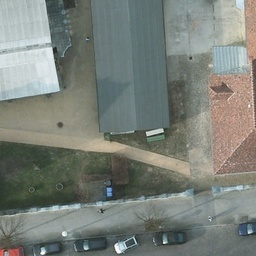car: (70, 234, 109, 252), (153, 230, 187, 247), (114, 234, 138, 255), (30, 241, 62, 256)
